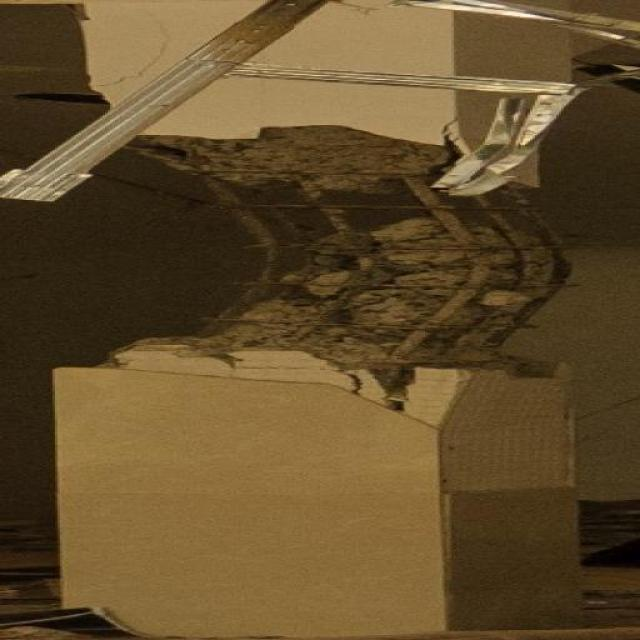D0w0: (130, 125, 562, 392)
